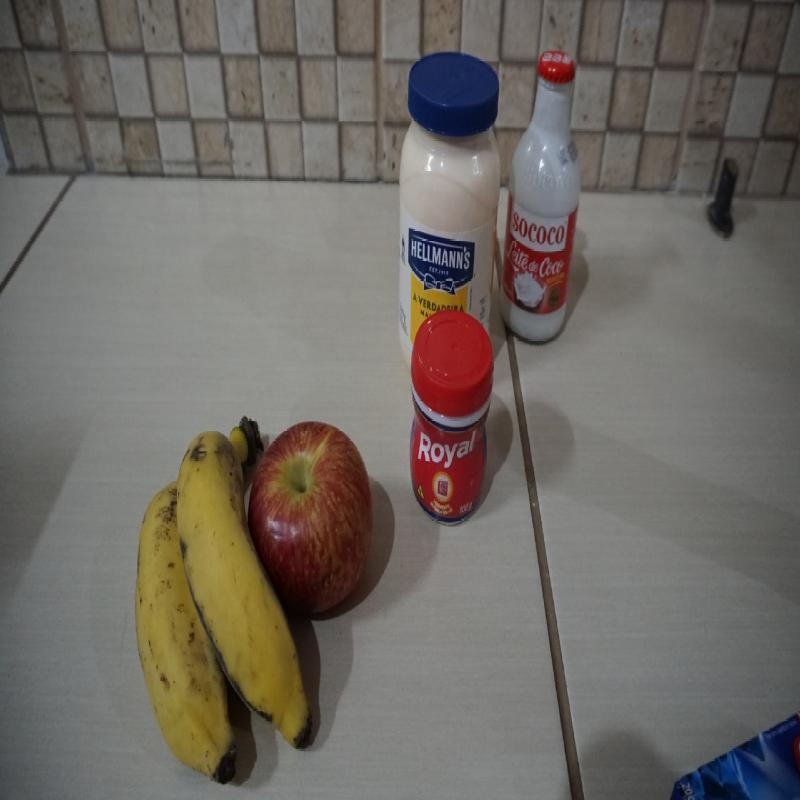Apple: (253, 416, 374, 618)
Banana: (133, 407, 248, 784)
Coconut Milk: (504, 45, 582, 343)
Mayonnaise: (394, 48, 499, 302)
Yeast: (407, 311, 492, 529)
